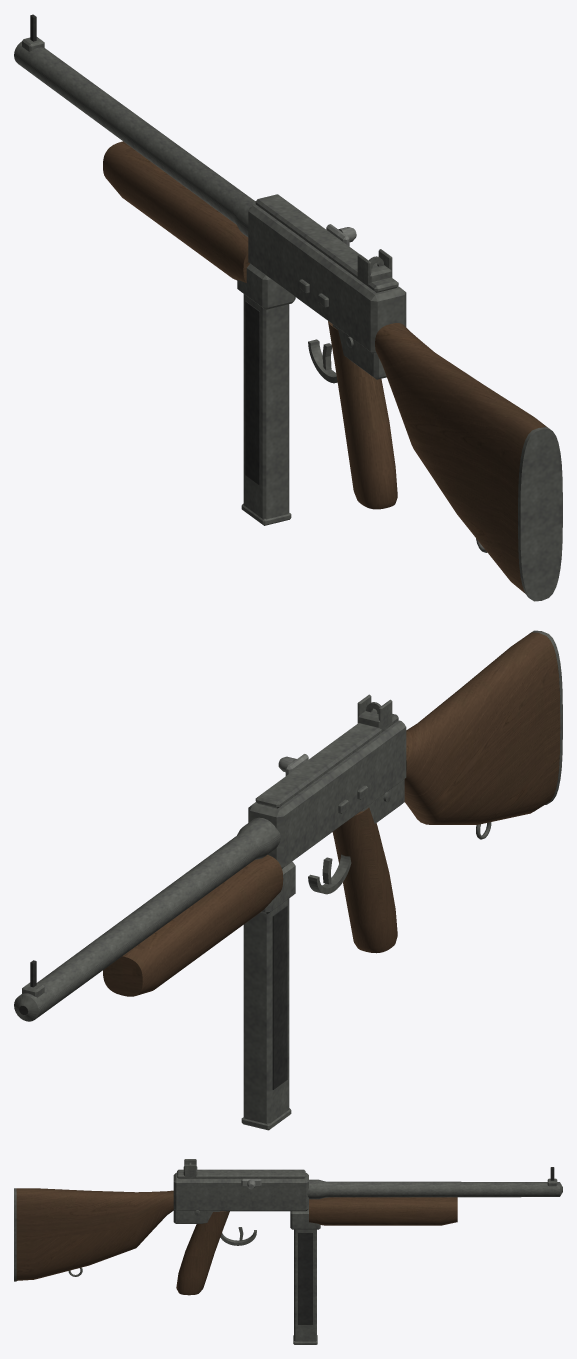
Rendered from thompson.glb.
3 views of the same model, one above another, from view 1: azimuth 30°, elevation 25°; view 2: azimuth 150°, elevation 25°; view 3: azimuth 270°, elevation 25° (orthographic). The views are drawn at different scales.
Parts seen in each view (by area): view 1: FP_body, TP_body, FP_mag, WD_body; view 2: FP_body, TP_body, FP_mag; view 3: FP_body, TP_body, FP_mag.
Boxes of the visible parts, bbox=[...] form: FP_body: bbox=[14, 14, 562, 601]; TP_body: bbox=[16, 47, 562, 599]; FP_mag: bbox=[241, 294, 291, 525]; WD_body: bbox=[244, 253, 562, 593]; FP_body: bbox=[14, 630, 562, 1021]; TP_body: bbox=[16, 631, 561, 1130]; FP_mag: bbox=[241, 898, 291, 1129]; FP_body: bbox=[14, 1159, 562, 1295]; TP_body: bbox=[14, 1179, 561, 1342]; FP_mag: bbox=[293, 1229, 317, 1344].
Size of the model in its own units: 0.053 by 0.293 by 0.8115.
Materials: 4 (4 with a texture image).
